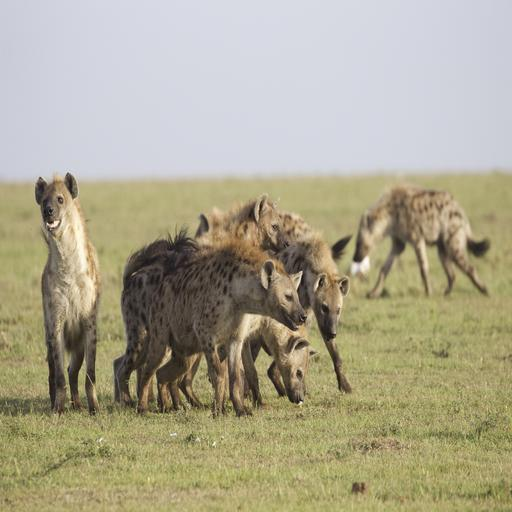Hyena: (163, 196, 370, 408), (118, 237, 310, 413), (116, 258, 309, 413), (26, 170, 108, 419), (346, 178, 498, 302)
